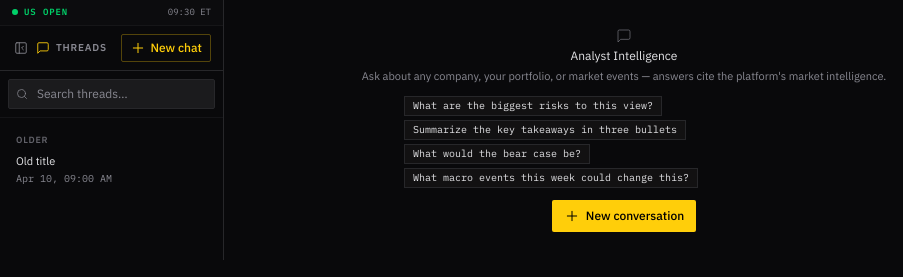
it: Thread rename › Enter commits the new title via updateThread (optimistic)
Double-click the text "Old title" at (36,161), box top-left (16, 154), bottom-right (55, 168)
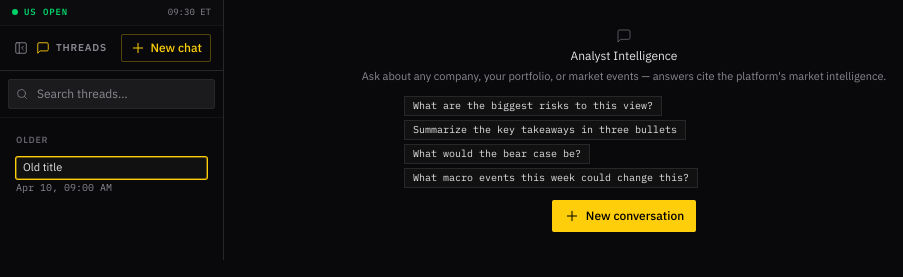
Replace the text in the field named "edit thread title" with "New title". click: (112,168)
box: top-left (16, 157), bottom-right (207, 179)
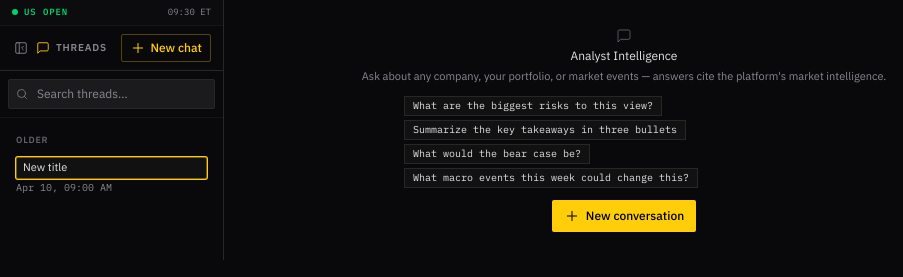
Press Enter in the field named "edit thread title", box top-left (16, 157), bottom-right (207, 179)
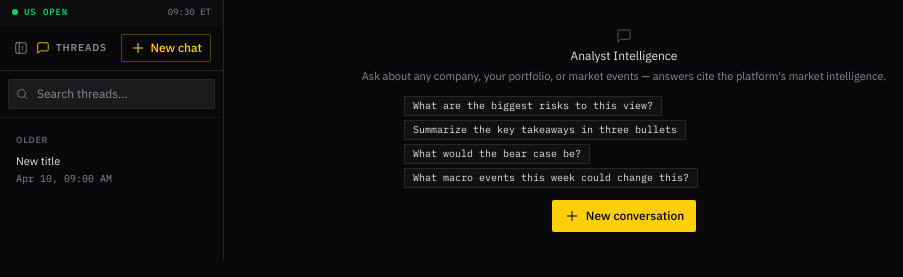
expect the text "New title" is shown: met, box top-left (16, 154), bottom-right (60, 168)
